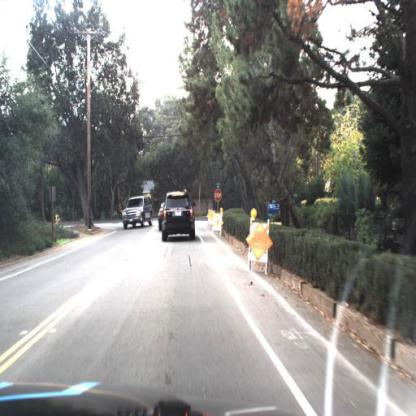car: (160, 188, 196, 244), (121, 194, 155, 230), (158, 202, 165, 232)
